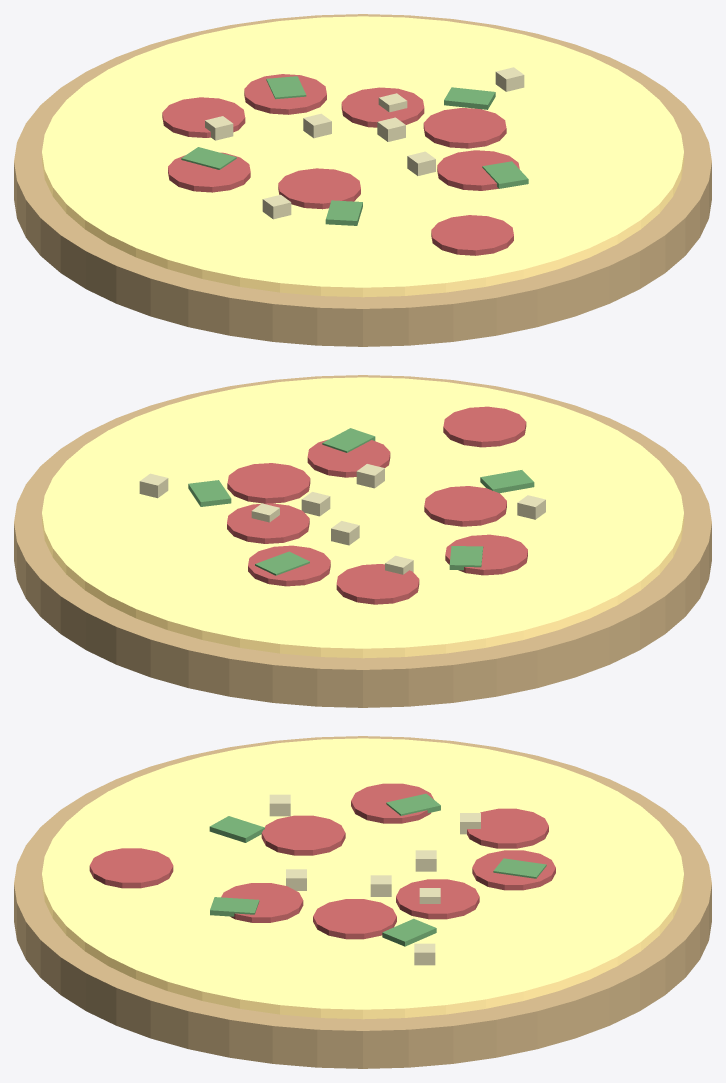
Rendered from pizza.glb.
3 views of the same model, one above another, from view 1: azimuth 30°, elevation 25°; view 2: azimuth 150°, elevation 25°; view 3: azimuth 270°, elevation 25° (orthographic).
Visible parts, largest first — view 1: Cheese, PizzaCrust, Pep0, Pep6, Pep5, Pep3, Pep1, Pep4, Pep7, Pep2, Basil0, Basil3 (+9 smaller); view 2: Cheese, PizzaCrust, Pep6, Pep0, Pep5, Pep3, Pep1, Pep2, Pep7, Pep4, Basil3, Basil0 (+8 smaller); view 3: Cheese, PizzaCrust, Pep6, Pep5, Pep0, Pep3, Pep1, Pep7, Pep4, Pep2, Basil0, Basil3 (+3 smaller).
Boxes of the visible parts, box(x1,y1,x2,y2) form: Cheese: box(42, 16, 683, 297); PizzaCrust: box(14, 14, 711, 346); Pep0: box(423, 108, 506, 148); Pep6: box(431, 215, 513, 255); Pep5: box(278, 168, 360, 209); Pep3: box(162, 97, 245, 137); Pep1: box(341, 87, 424, 127); Pep4: box(168, 152, 250, 192); Pep7: box(437, 150, 519, 190); Pep2: box(244, 74, 326, 114); Basil0: box(444, 87, 495, 109); Basil3: box(325, 200, 362, 225); Cheese: box(42, 377, 683, 658); PizzaCrust: box(14, 375, 711, 707); Pep6: box(443, 406, 526, 447); Pep0: box(227, 463, 310, 503); Pep5: box(424, 486, 506, 526); Pep3: box(336, 564, 419, 604); Pep1: box(227, 503, 309, 543); Pep2: box(248, 545, 330, 586); Pep7: box(307, 439, 390, 477); Pep4: box(445, 534, 527, 575); Basil3: box(480, 470, 534, 493); Basil0: box(188, 480, 231, 506); Cheese: box(42, 738, 683, 1019); PizzaCrust: box(14, 736, 711, 1068); Pep6: box(89, 848, 173, 888); Pep5: box(261, 815, 345, 855); Pep0: box(313, 899, 396, 939); Pep3: box(467, 808, 548, 848); Pep1: box(396, 879, 479, 919); Pep7: box(221, 883, 303, 922); Pep4: box(351, 783, 433, 823); Pep2: box(472, 850, 555, 890); Basil0: box(382, 918, 436, 946); Basil3: box(209, 816, 264, 842).
Bounding box in the file's own units: 2 × 0.19 × 2.
